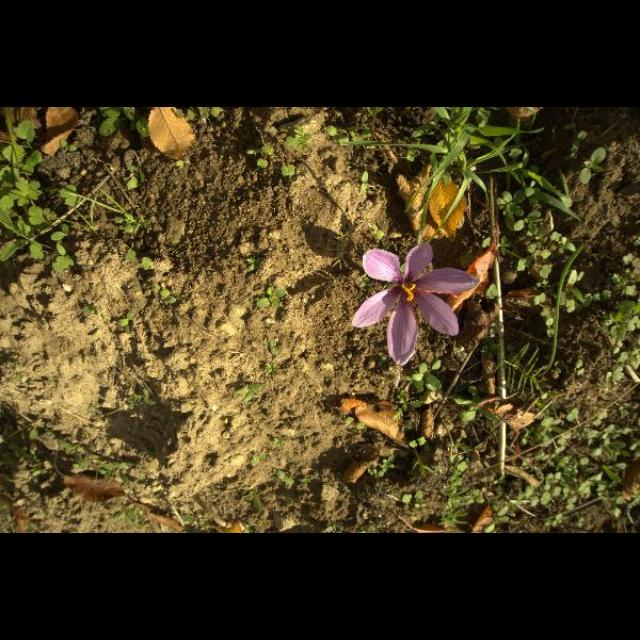flower: (352, 242, 478, 366)
